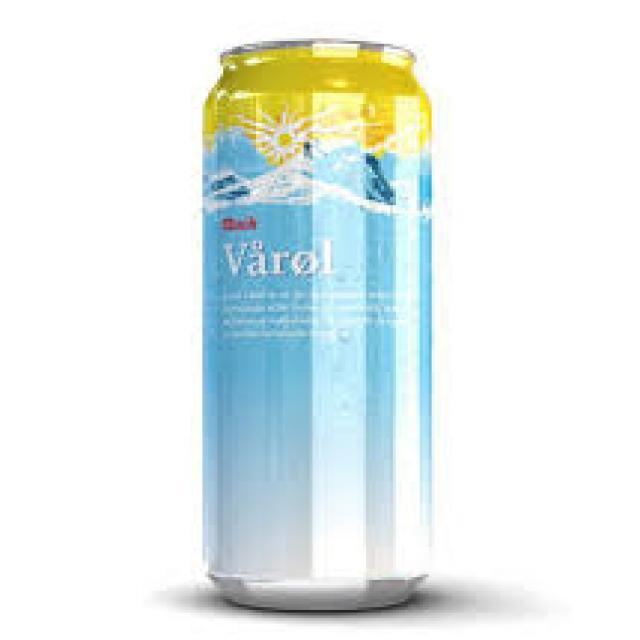recyclable: (196, 41, 434, 614)
